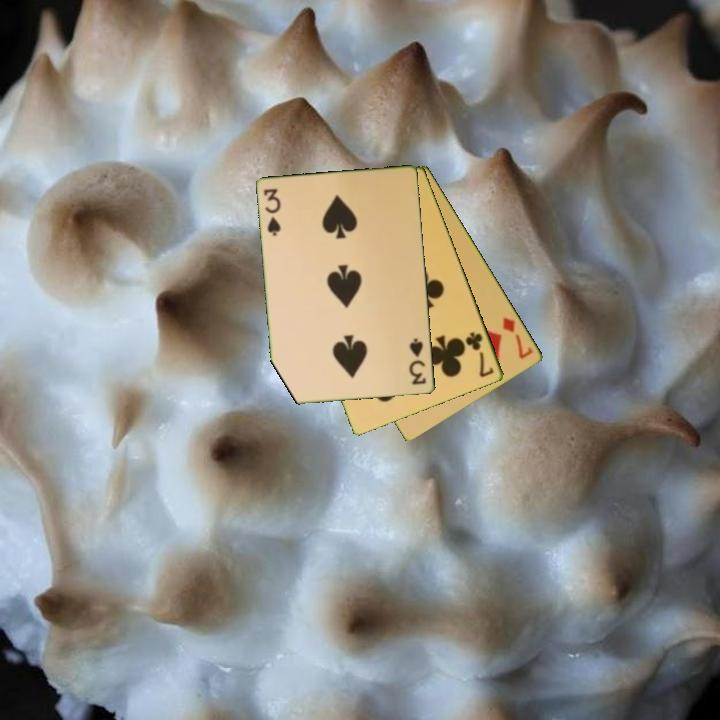3s: (260, 185, 284, 239), (406, 335, 429, 388)
7c: (462, 328, 497, 380)
7d: (499, 313, 536, 362)
